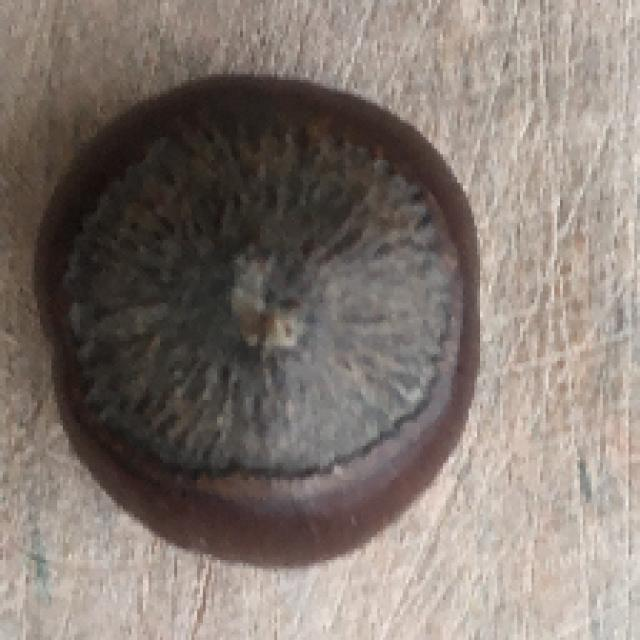DamagedHazelnut: (37, 73, 481, 565)
